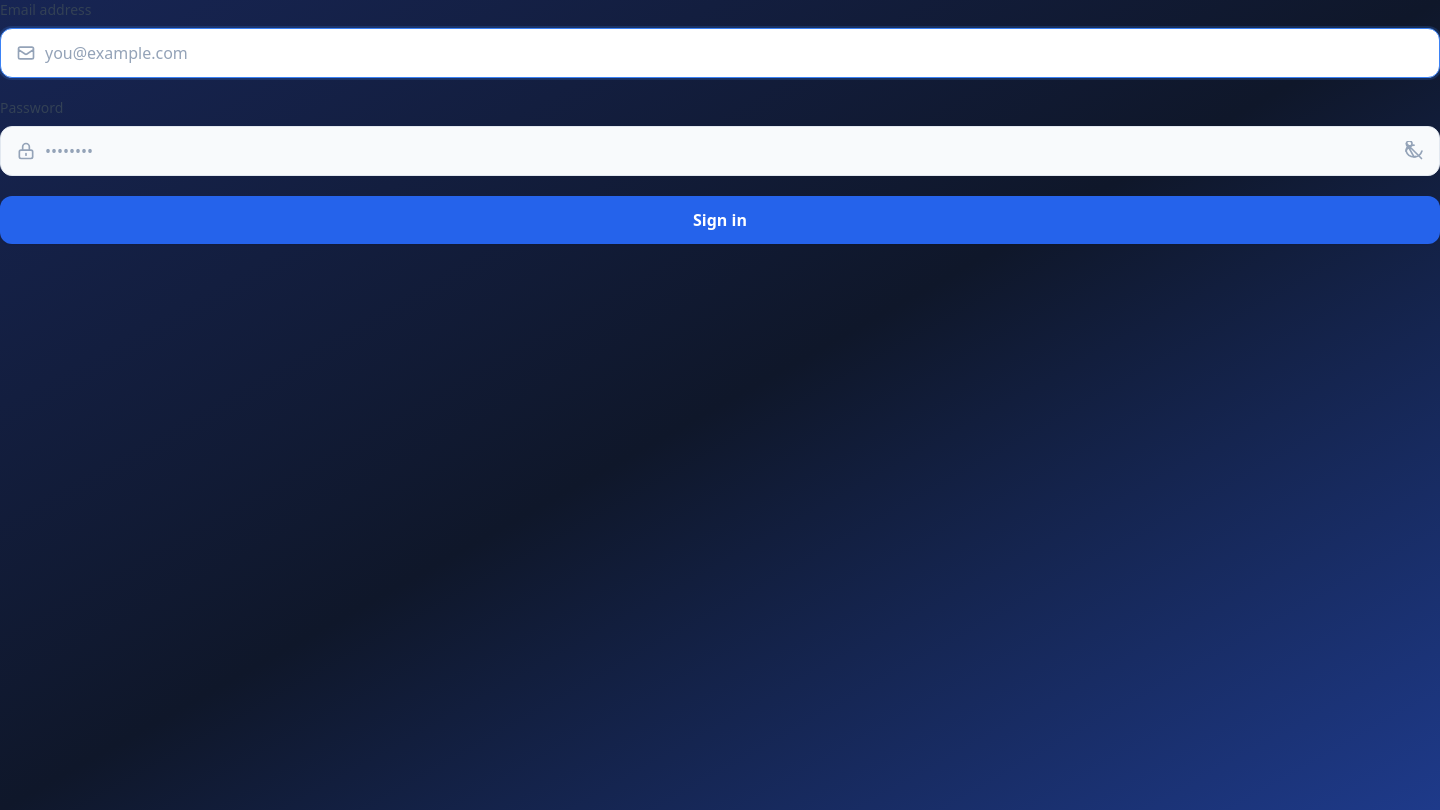
Scenario: LoginForm › should validate password field
Note: Empty password - submit should show error
Submit the form, box [0, 0, 1439, 244]
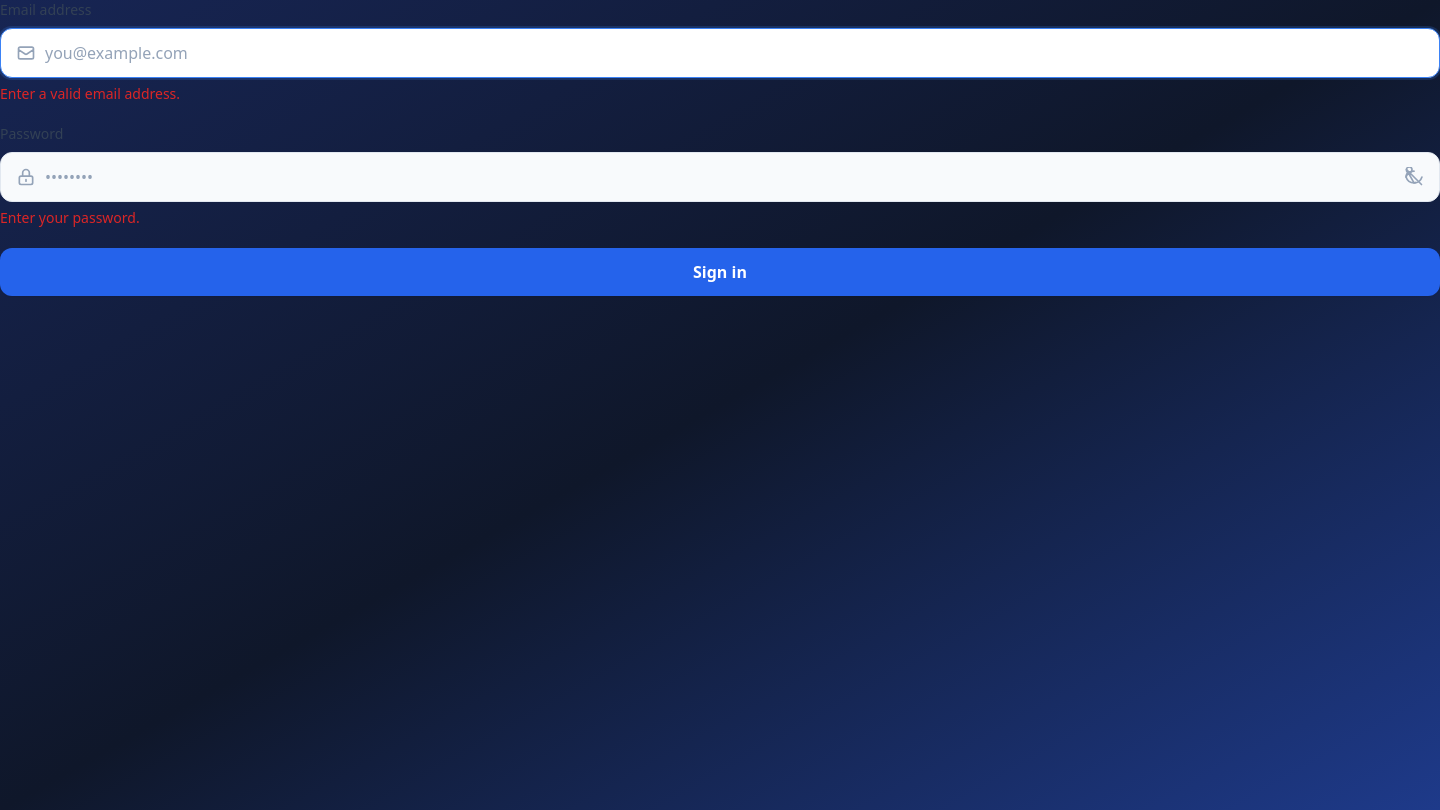
expect the text "Enter your password." is shown: met, box [0, 208, 140, 227]
Note: Enter password and valid email, re-submit
Type "test@example.com" into the field labelled "Email address" at (720, 53), box [0, 28, 1439, 78]
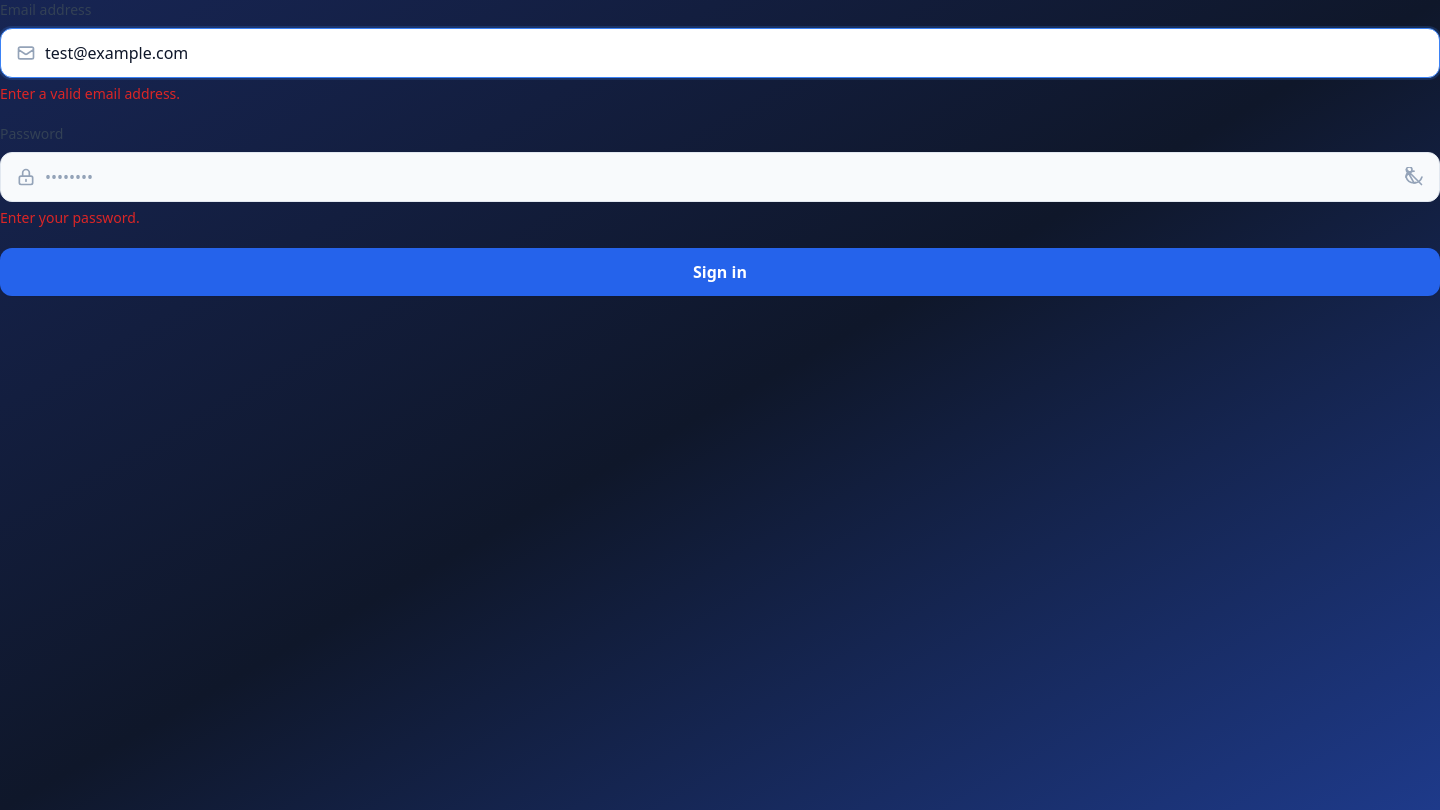
Type "MyPassword123" into the password field labelled "Password" at (720, 177), box [0, 152, 1439, 202]
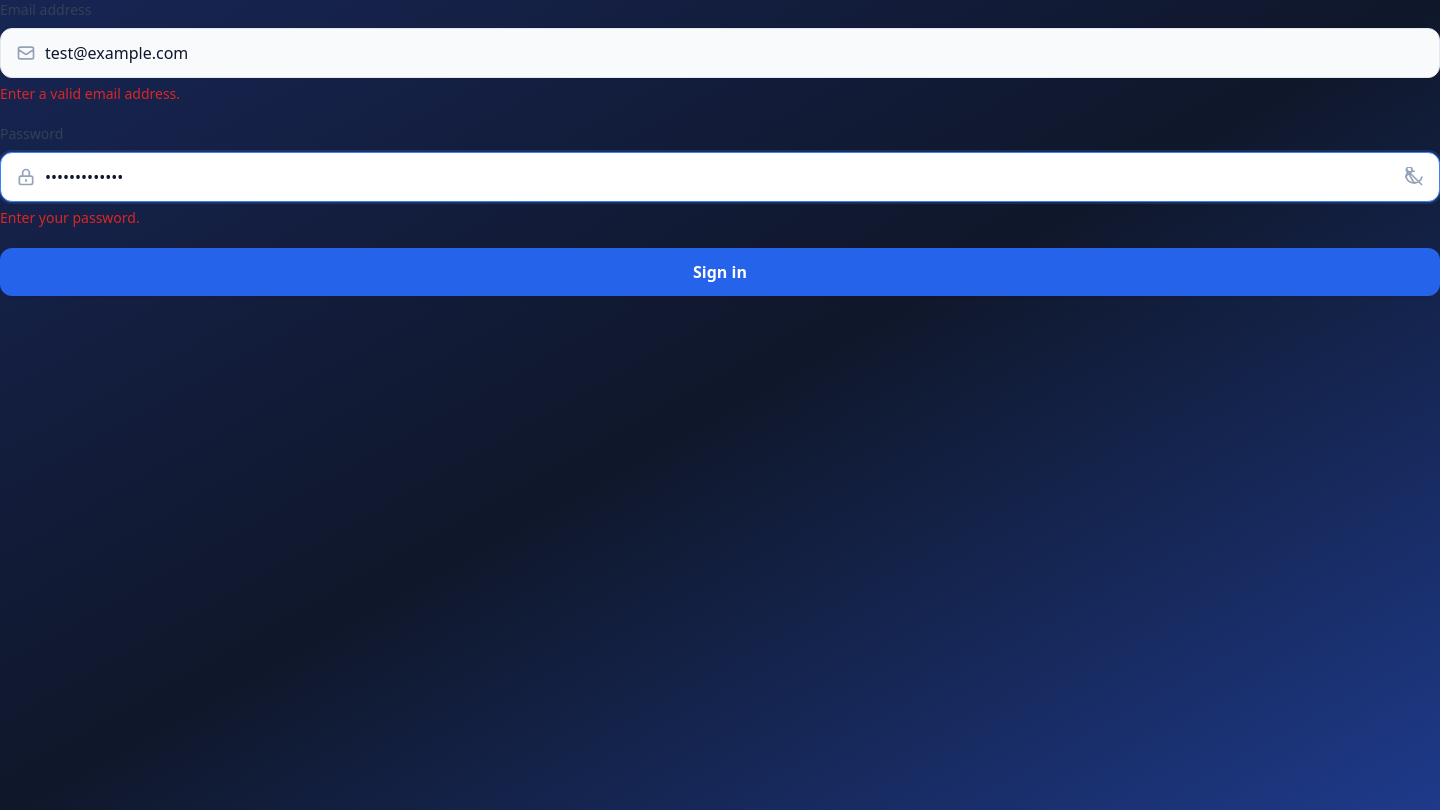
Submit the form, box [0, 0, 1439, 296]
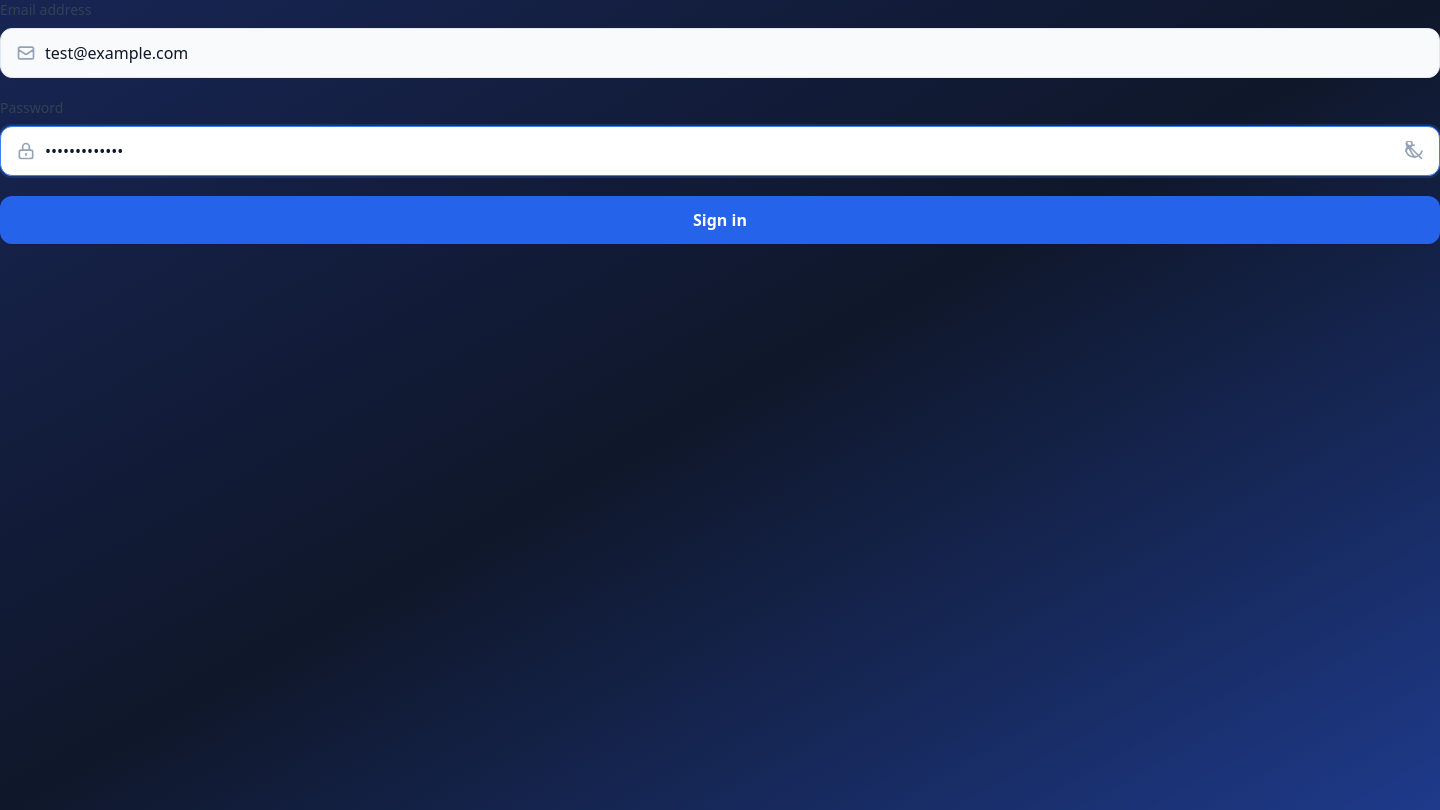
expect the text "Enter your password" is gone: met
